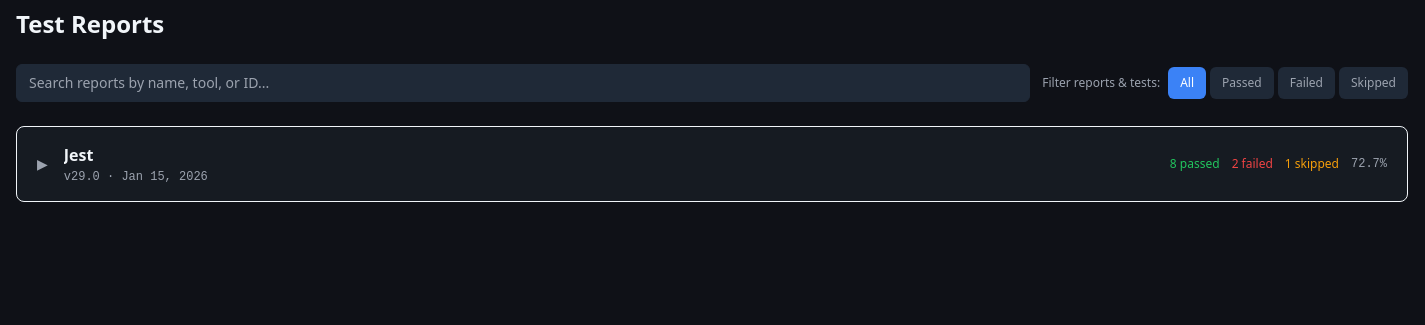
Scenario: TestResultsPage › shows no-match message when search returns no results
This screenshot has width=1425, height=325.
Expected: the text "Jest" is shown, x1=64 y1=144 x2=94 y2=166
Step 1. Type "xyznonexistent" into the field with placeholder "Search reports by name, tool, or ID..." → (523, 83), box x1=16 y1=64 x2=1030 y2=102
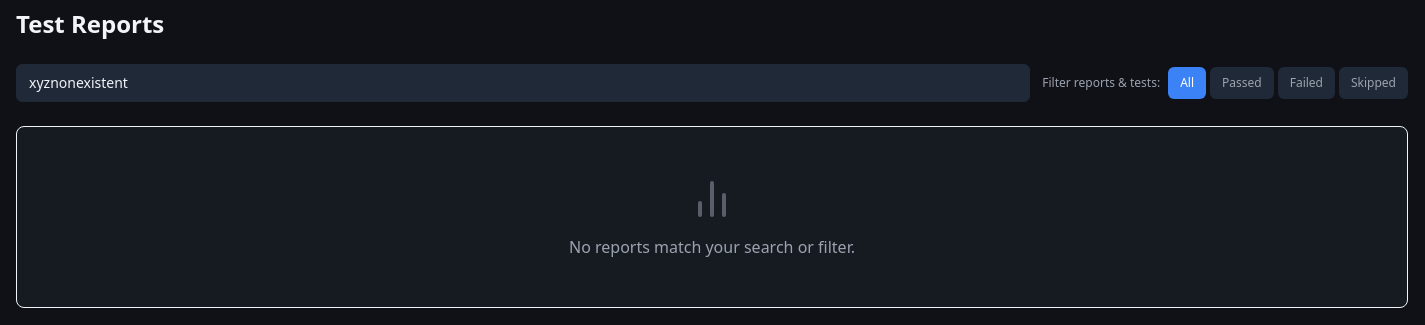
Expected: the text "No reports match your search or filter." is shown, x1=569 y1=235 x2=855 y2=259
